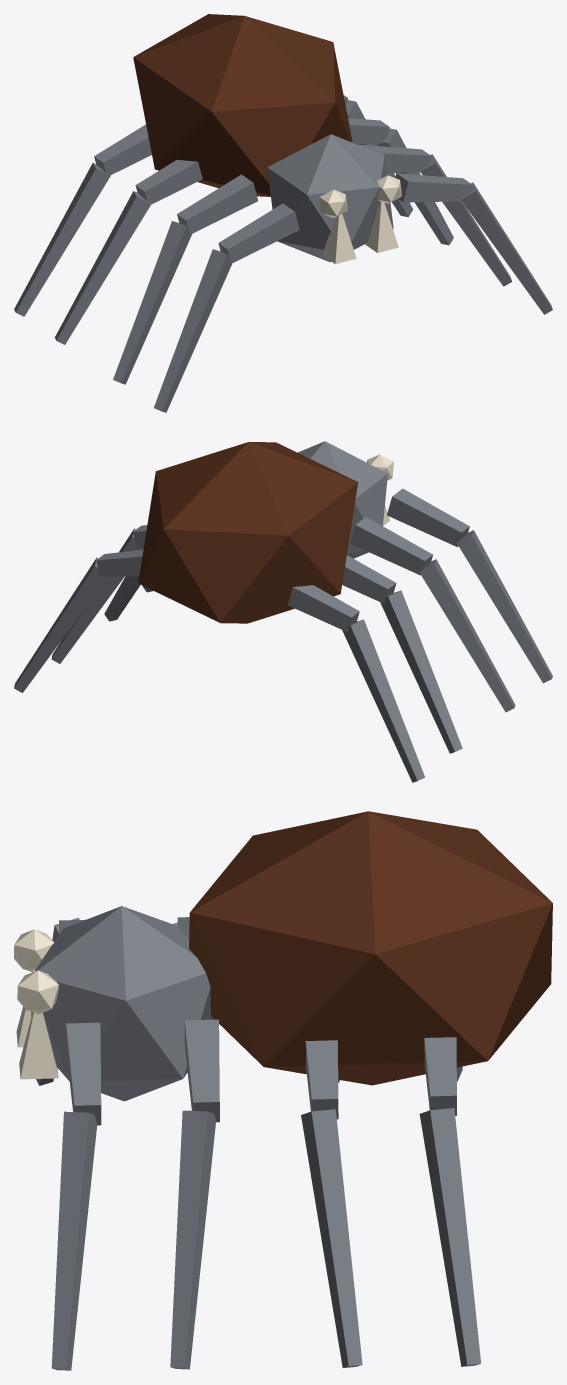
File: npcpose_spider_idle_01.glb
The picture shows the model from 3 angles, top to bottom: view 1: azimuth 30°, elevation 25°; view 2: azimuth 150°, elevation 25°; view 3: azimuth 270°, elevation 25°; orthographic projection. The views are drawn at different scales.
Visible parts, largest first — view 1: npcpose; view 2: npcpose; view 3: npcpose.
Part boxes in pixels (x1,y1,x2,y2): npcpose: (14, 14, 552, 412); npcpose: (14, 441, 552, 782); npcpose: (14, 811, 552, 1370).
Size of the model in its own units: 1.33 by 0.845 by 0.9991.
